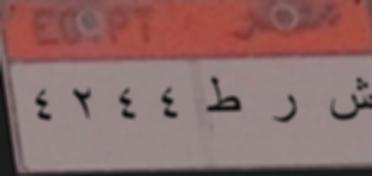2: (70, 87, 101, 124)
4: (114, 74, 144, 128), (157, 78, 183, 125), (30, 87, 56, 128)
Taa: (200, 73, 245, 121)
raa: (264, 83, 310, 128)
sheen: (324, 74, 372, 130)
